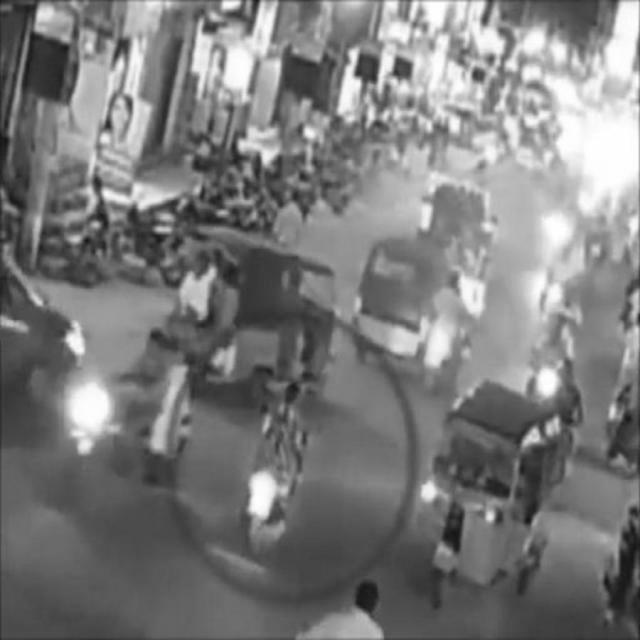vehicle: (157, 224, 327, 392), (419, 392, 547, 604), (243, 380, 310, 557), (351, 242, 423, 374)
